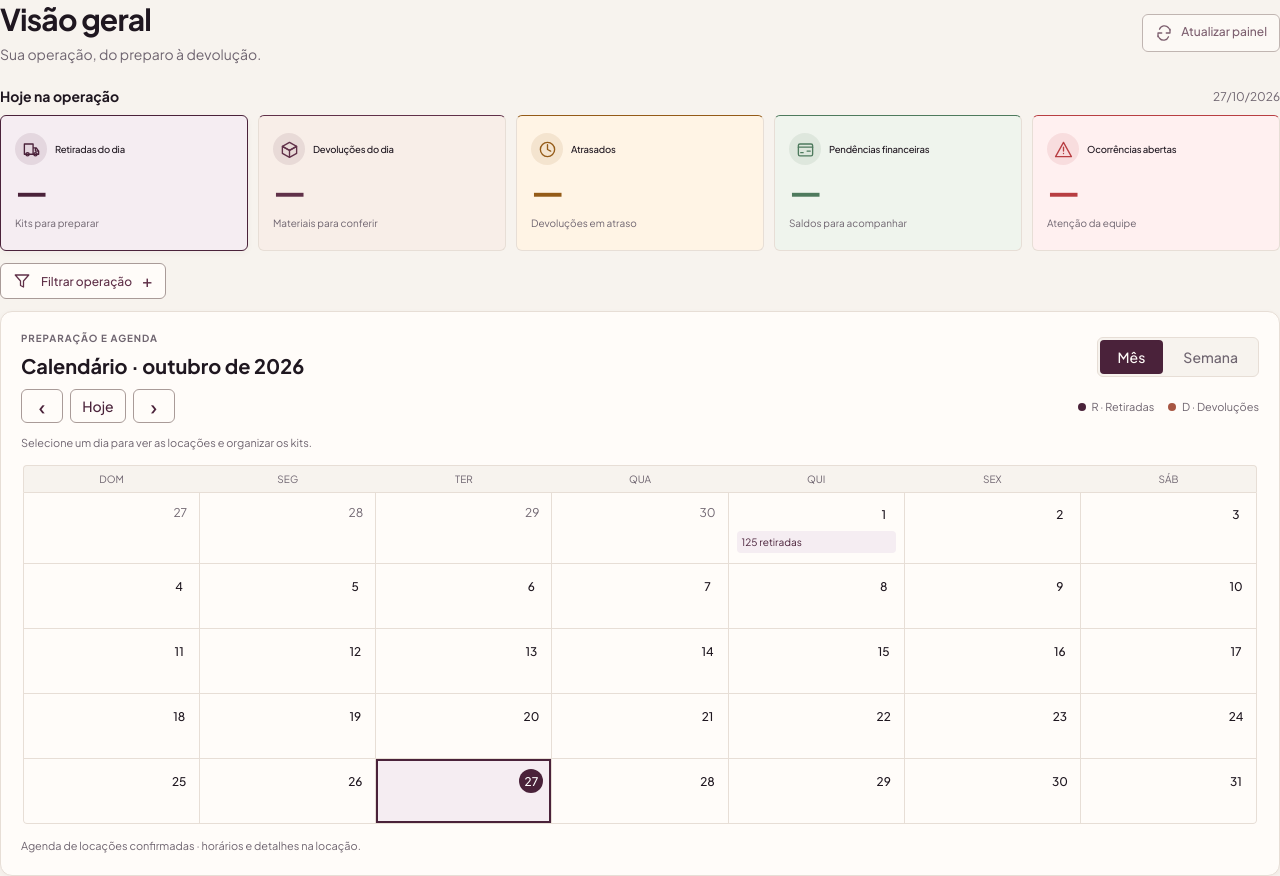
Test case: ignores obsolete responses and hides prior counts while a new query is pending or fails
Click the heading "Filtrar operação": [83, 281] box [0,263,166,299]
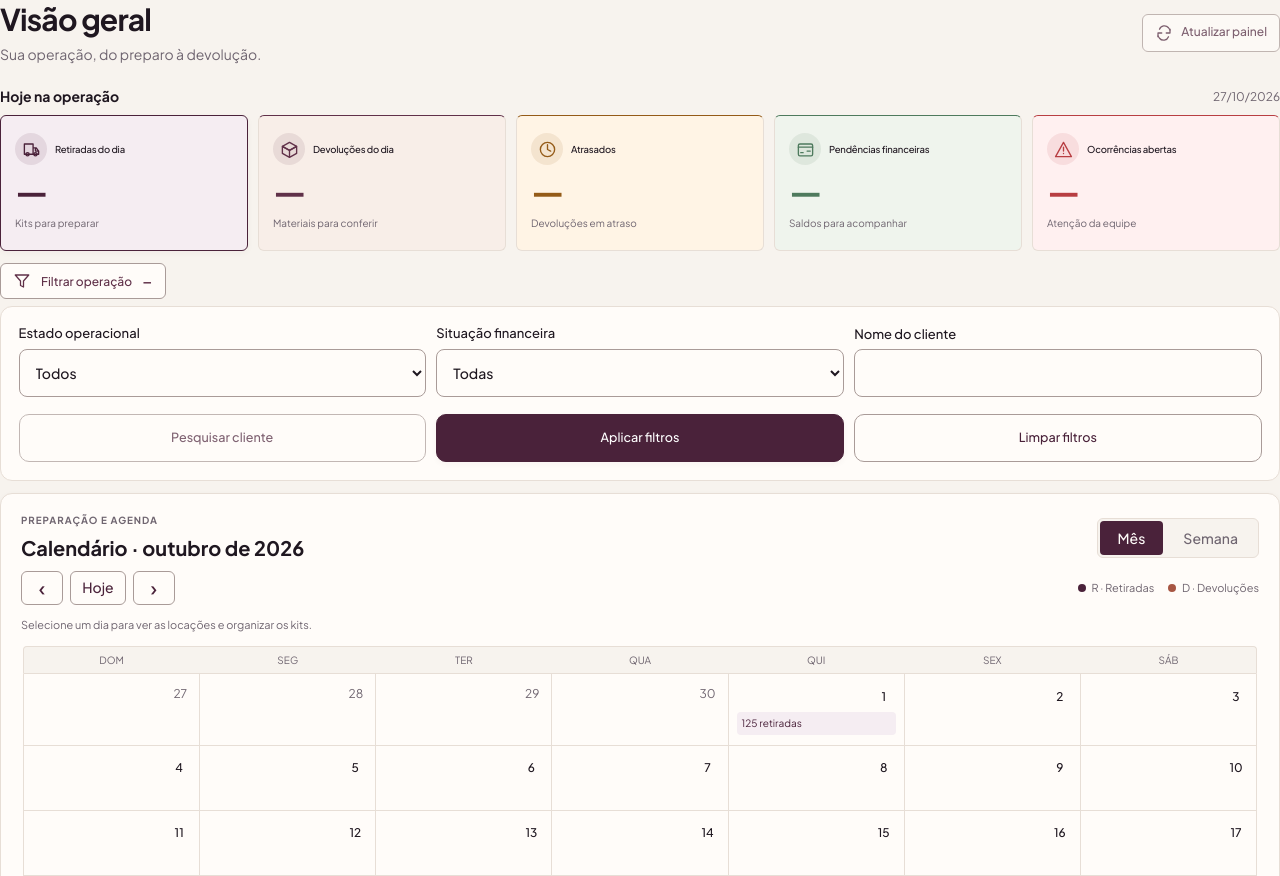
Select "Com pendência" in the dropdown labelled "Situação financeira": [640, 373] box [436,349,844,397]
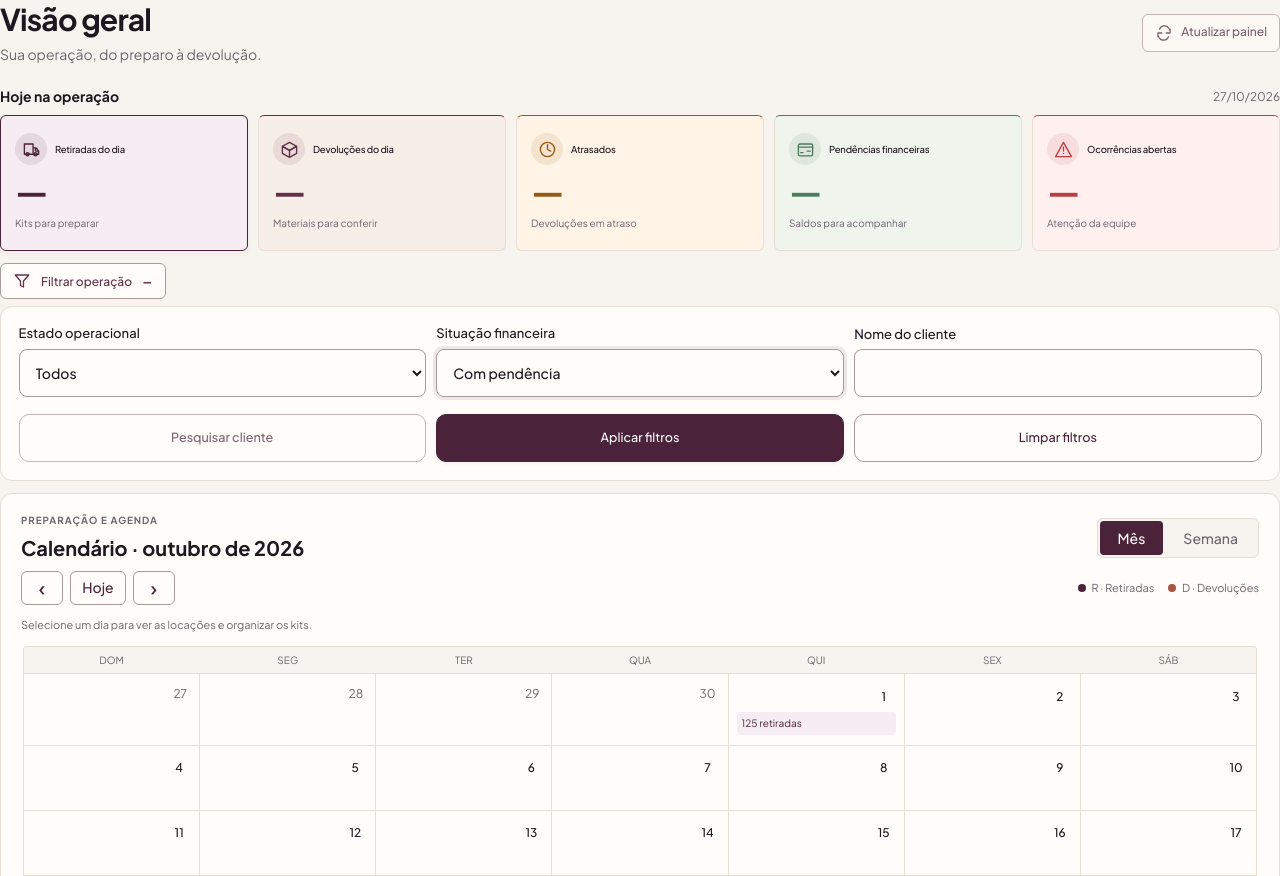
Click the button "Aplicar filtros": [640, 438] box [436,414,844,462]
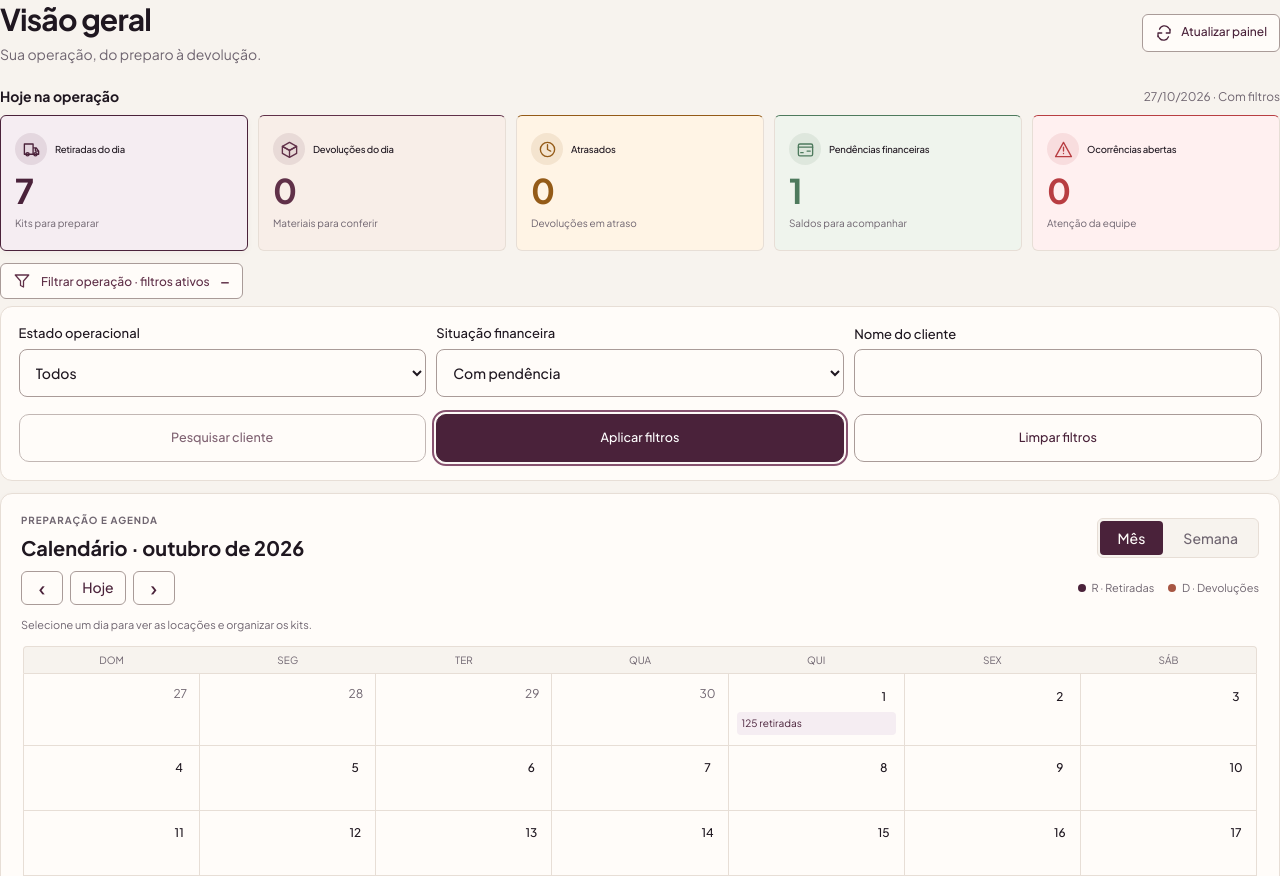
Expected: the button "Retiradas do dia 7 Kits para preparar" is shown, [0,115,248,251]
Click the button "Atualizar painel": [1211, 33] box [1142,14,1279,52]
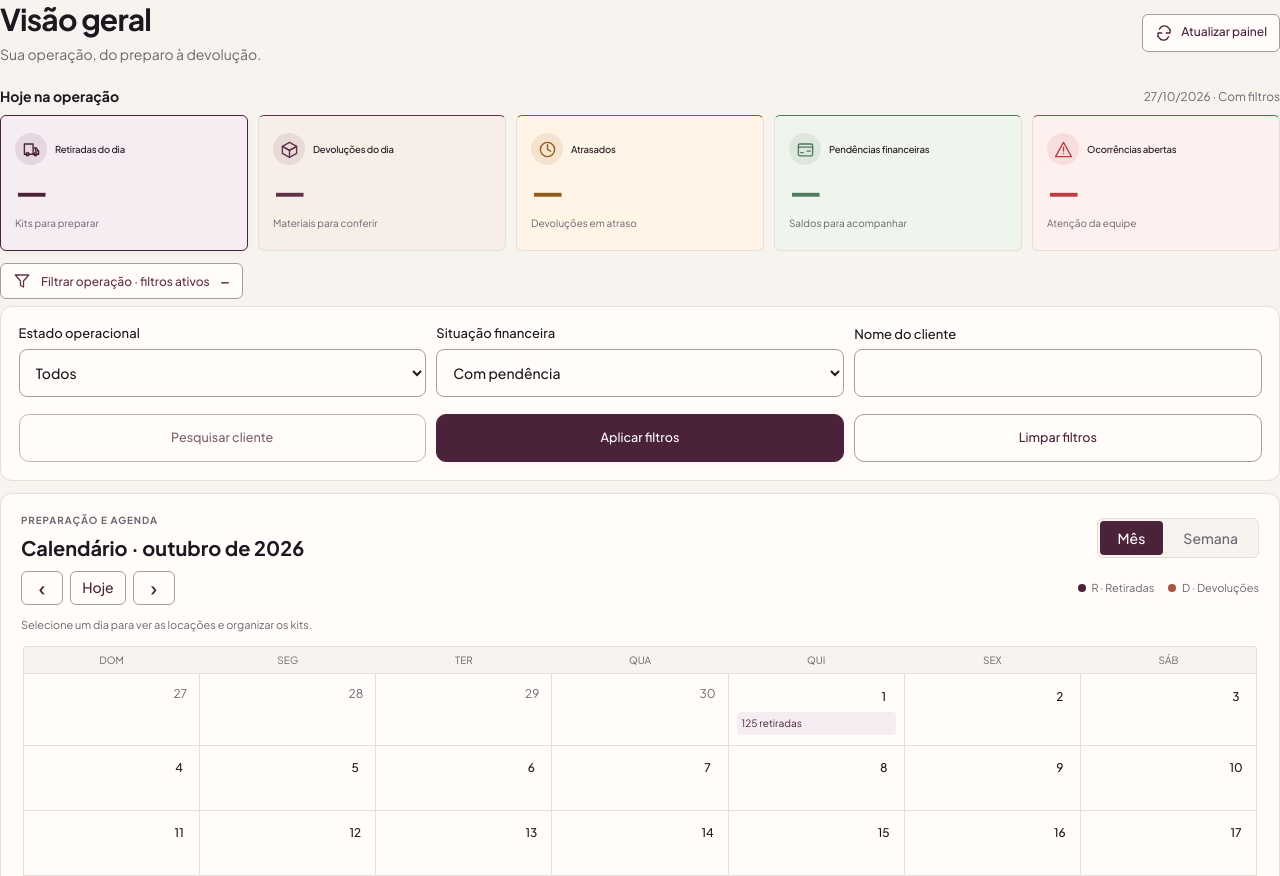
Expected: the button "Retiradas do dia — Kits para preparar" is shown, [0,115,248,251]
